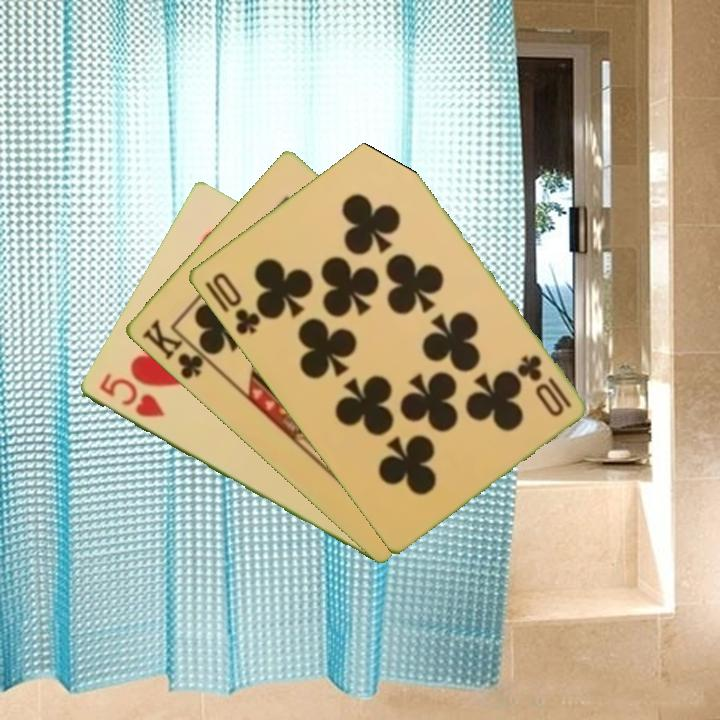10c: (208, 268, 263, 338), (514, 351, 575, 411)
5h: (95, 369, 167, 421)
Kc: (137, 315, 215, 382)
